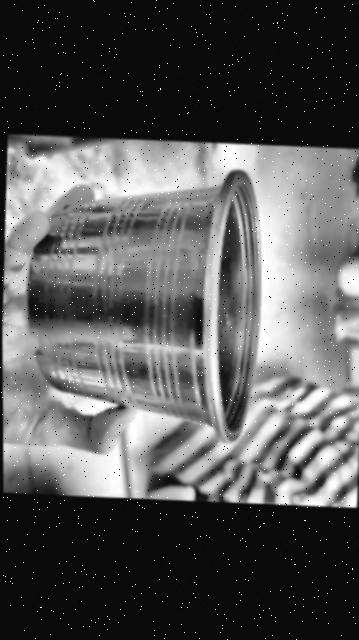pot: (22, 163, 264, 449)
